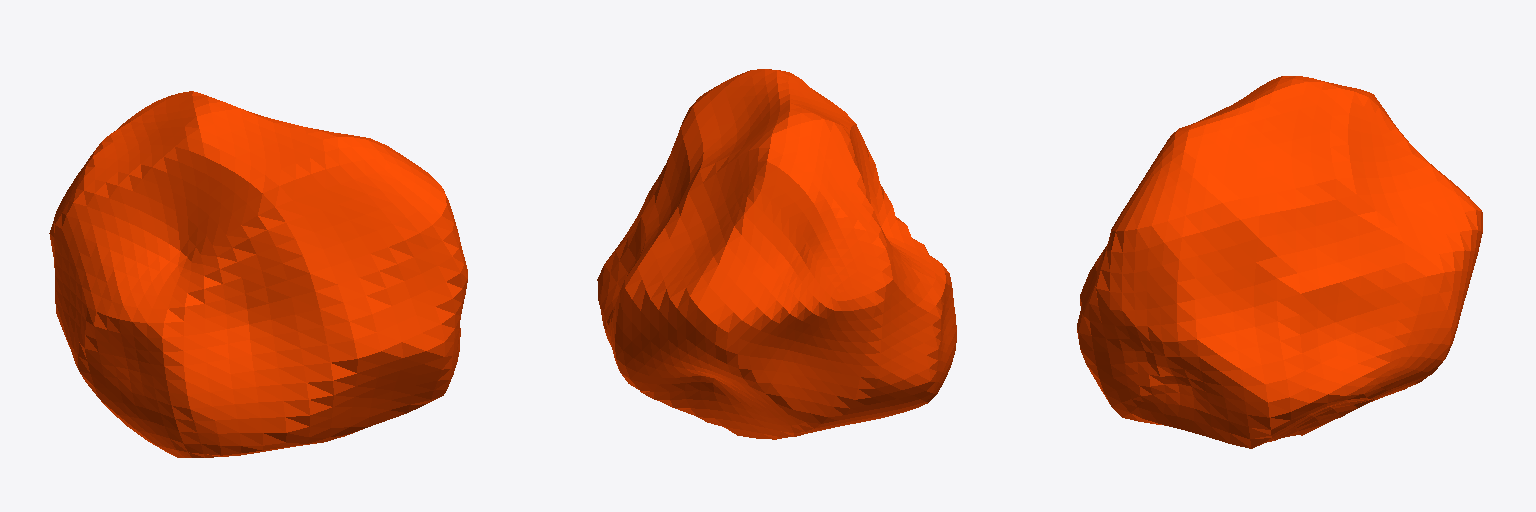
The model's file is fishesInSeaScene.obj.
3 views of the same model, side by side, from view 1: azimuth 30°, elevation 25°; view 2: azimuth 150°, elevation 25°; view 3: azimuth 270°, elevation 25° (orthographic).
Visible parts, largest first — view 1: Cube.006; view 2: Cube.006; view 3: Cube.006.
Part boxes in pixels (x1,y1,x2,y2): Cube.006: (49, 91, 467, 457); Cube.006: (597, 69, 956, 439); Cube.006: (1077, 76, 1482, 448).
Bounding box in the file's own units: 0.4037 × 0.3559 × 0.416.